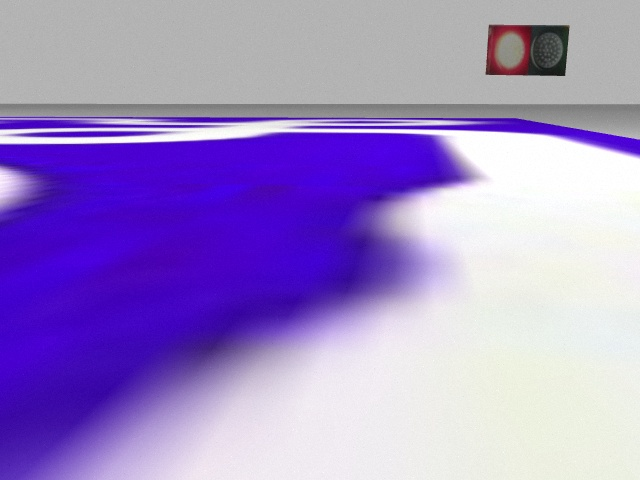red: (489, 23, 532, 75)
